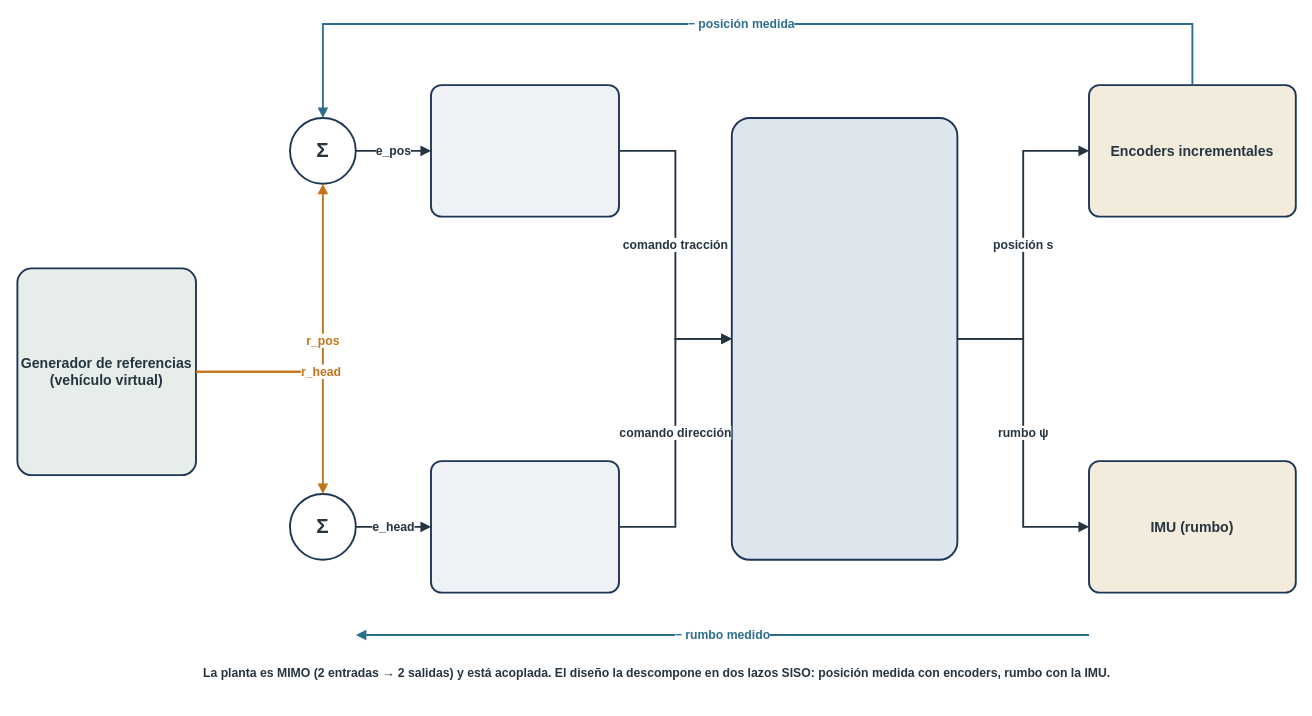
This 1312x716 diagram has some shape labels left out. The centre of each missing label's shape, as x and y in pixels:
PI dirección: [524,526]
PI posición: [524,150]
Vehículo Ackermann (planta MIMO): [844,338]
